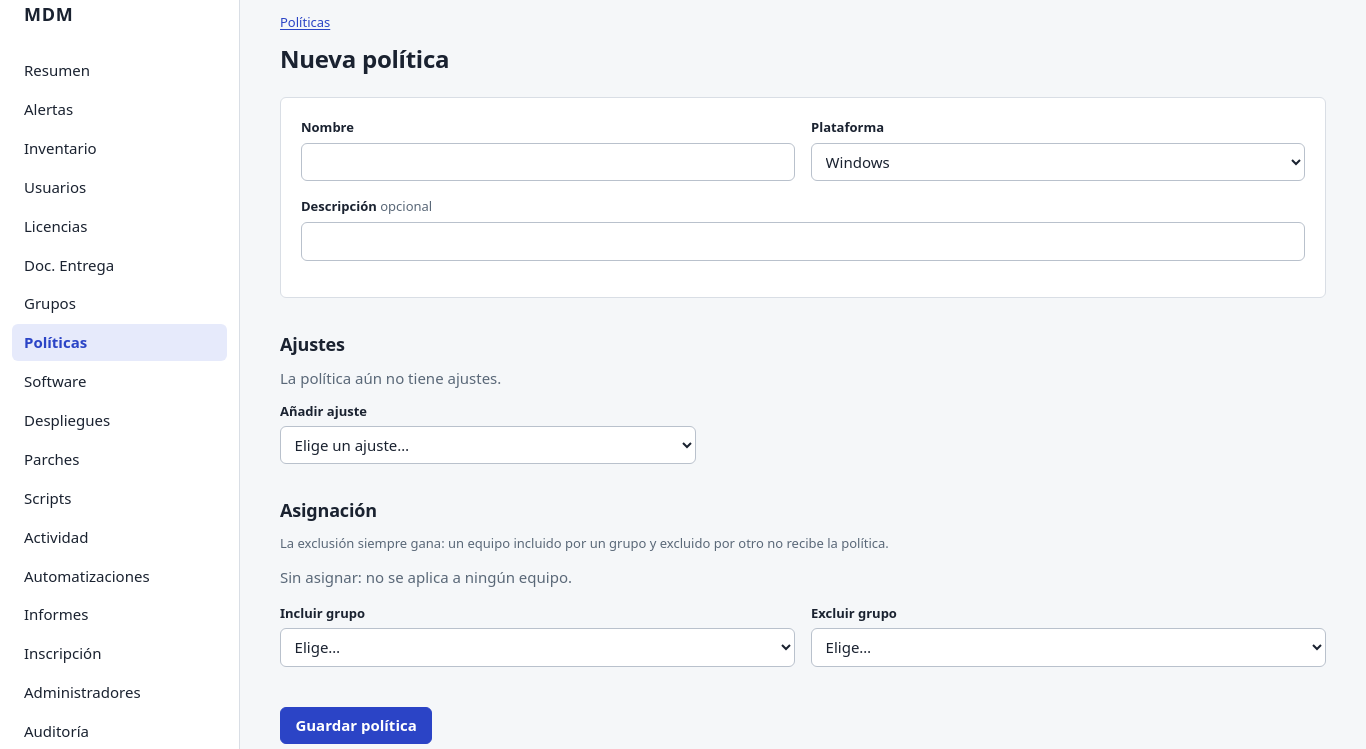
Test: Editor de políticas › valida los rangos antes de guardar
Type "Bloqueo" into the field labelled "Nombre" at (548, 162), box [301,143,795,182]
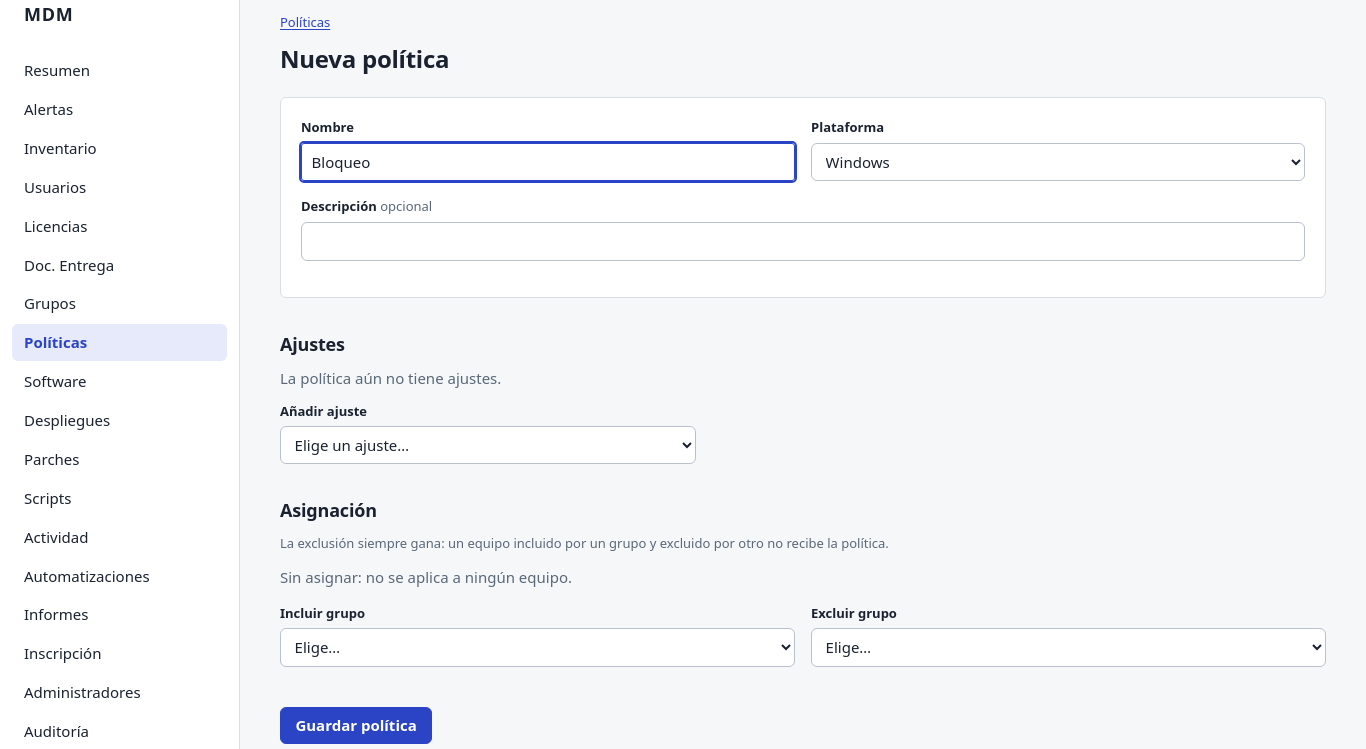
Select "Bloqueo de pantalla por inactividad" in the dropdown labelled "Añadir ajuste" at (488, 445), box [280,426,696,464]
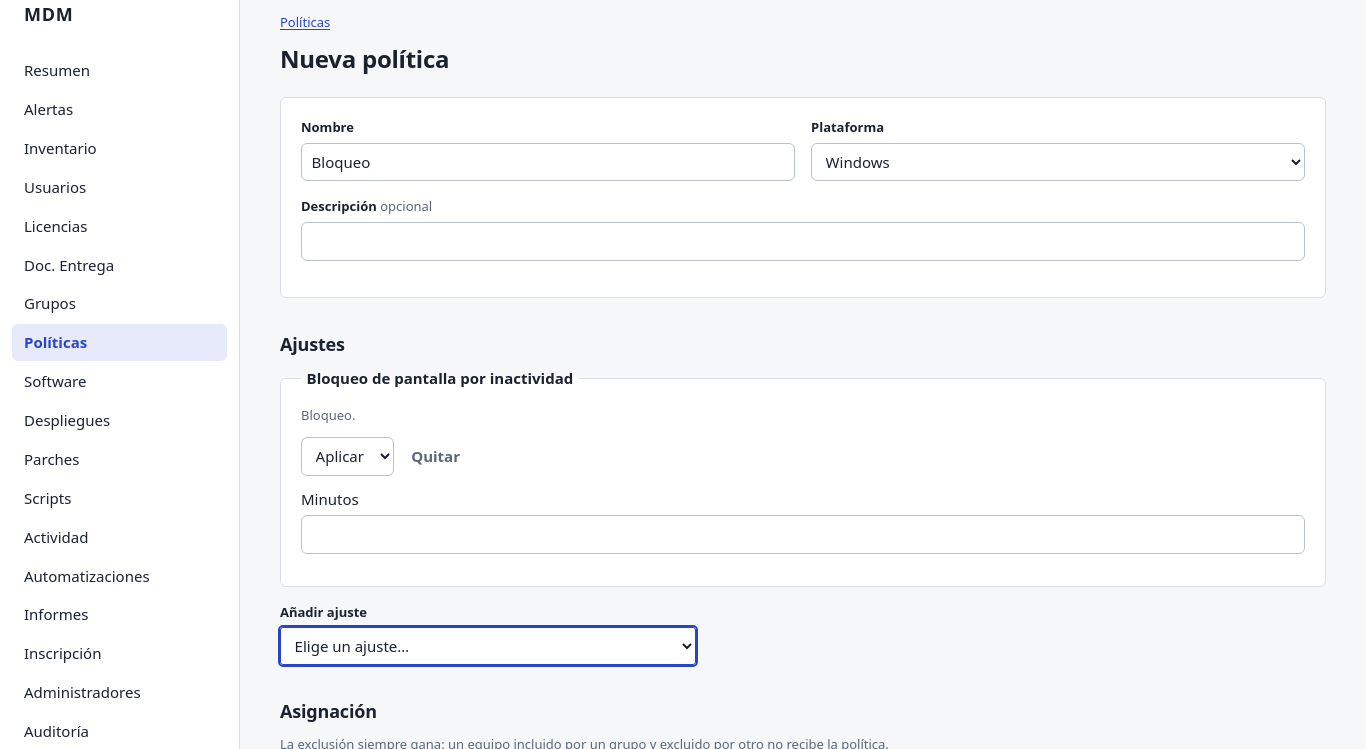
Type "0" into the number field labelled "Minutos" at (803, 534), box [301,515,1305,554]
(page scrolled)
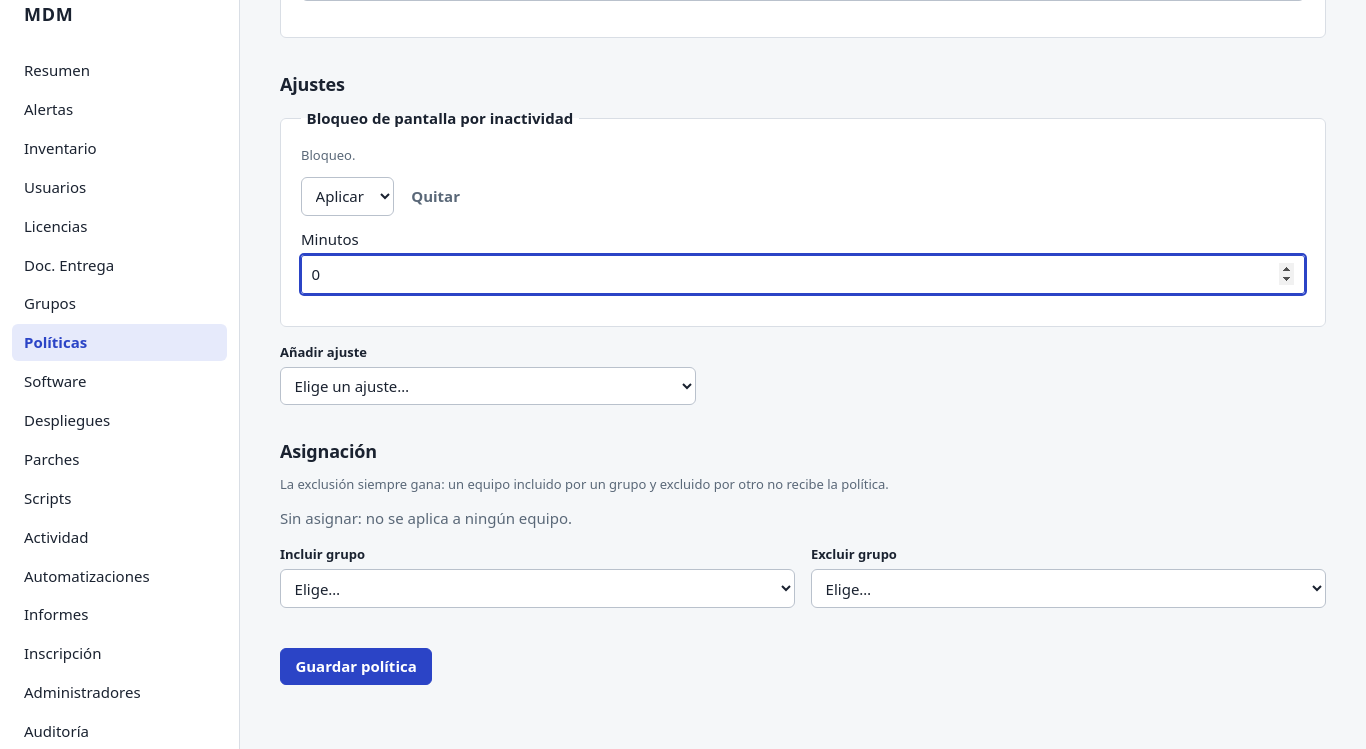
Click the button "Guardar política" at (356, 666), box [280,648,432,685]
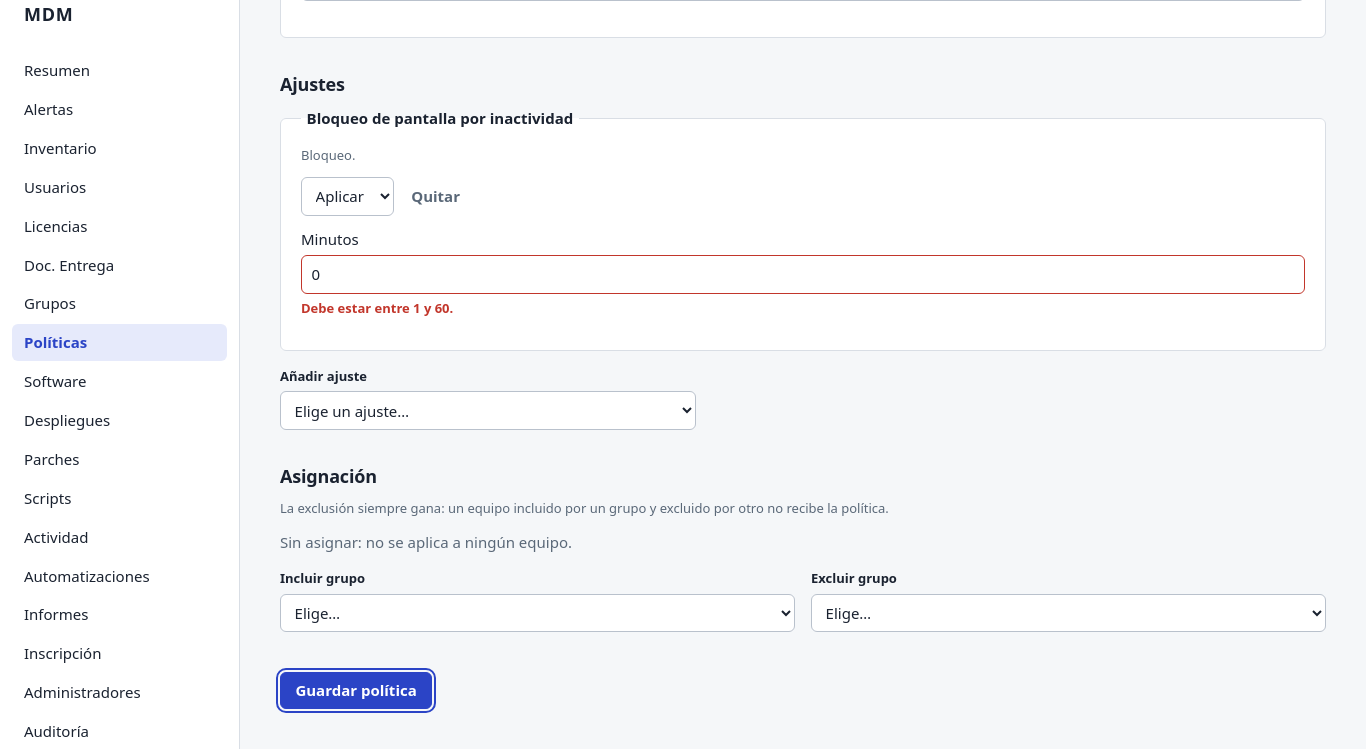
Expected: the text "Debe estar entre 1 y 60." is shown, [301,299,453,317]
